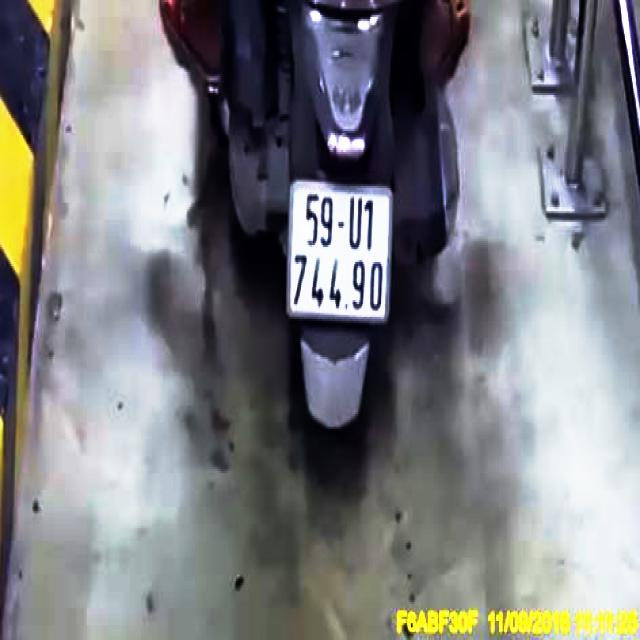license_plate: (290, 179, 396, 324)
